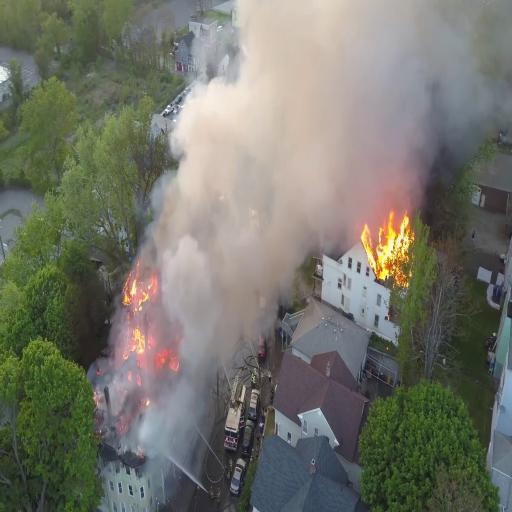fire: (356, 214, 406, 276), (117, 262, 150, 318)
